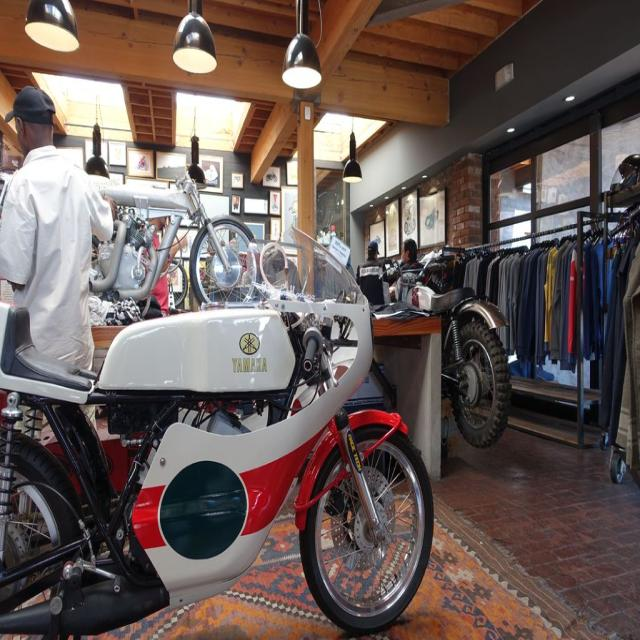Motorbikes: (1, 233, 436, 640), (435, 280, 514, 456)
